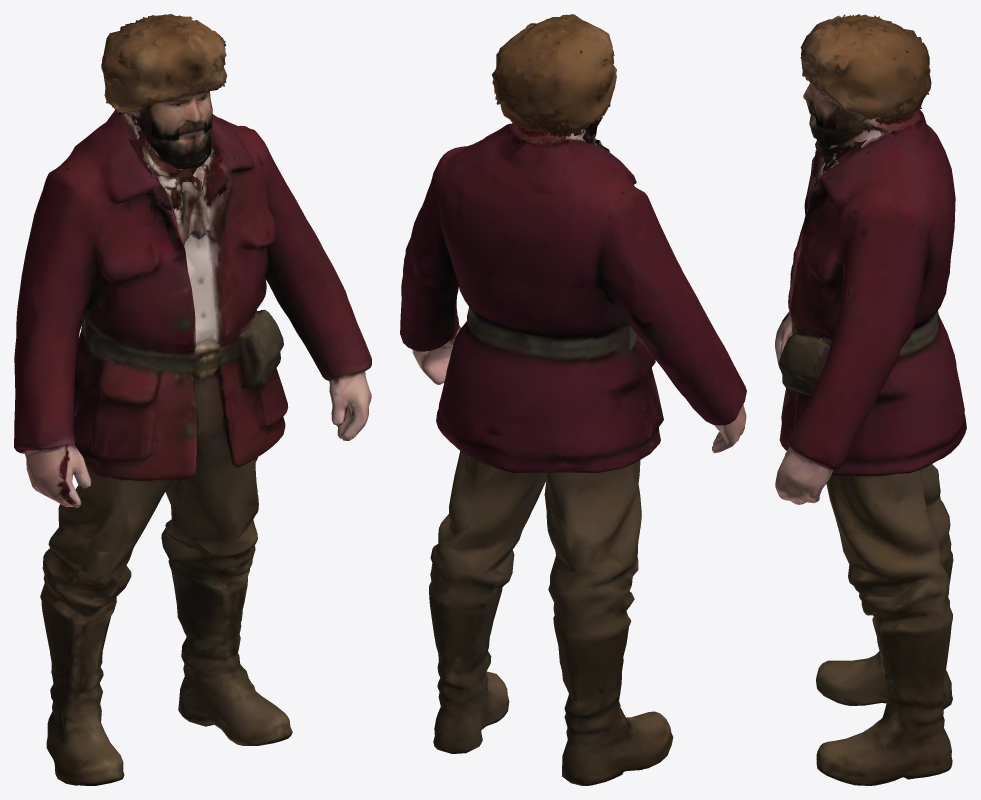
File: trader.glb
3 renders of one model, left to right at view 1: azimuth 30°, elevation 25°; view 2: azimuth 150°, elevation 25°; view 3: azimuth 270°, elevation 25°, orthographic. The views are drawn at different scales.
Visible parts, largest first — view 1: trader.raw; view 2: trader.raw; view 3: trader.raw.
Part boxes in pixels (x1=…): trader.raw: x1=14, y1=14, x2=371, y2=785; trader.raw: x1=400, y1=14, x2=746, y2=785; trader.raw: x1=775, y1=14, x2=966, y2=785.
Size of the model in its own units: 0.8874 by 1.8 by 0.437.
Materials: 1 (1 with a texture image).
